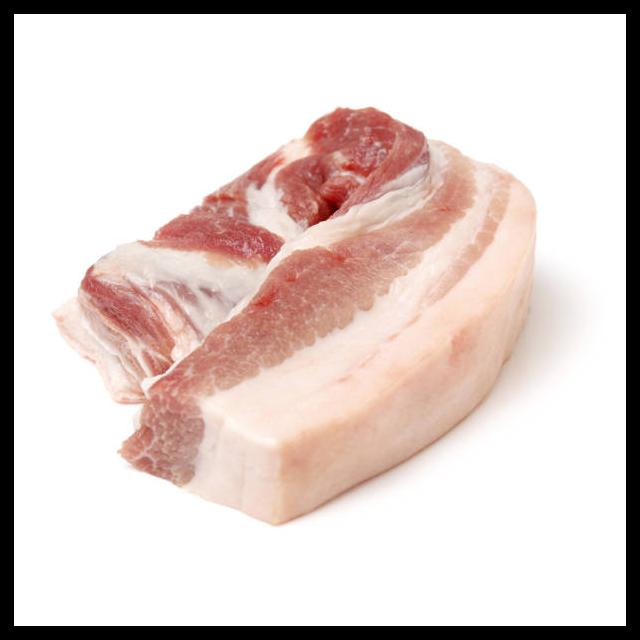pork: (63, 107, 545, 525)
